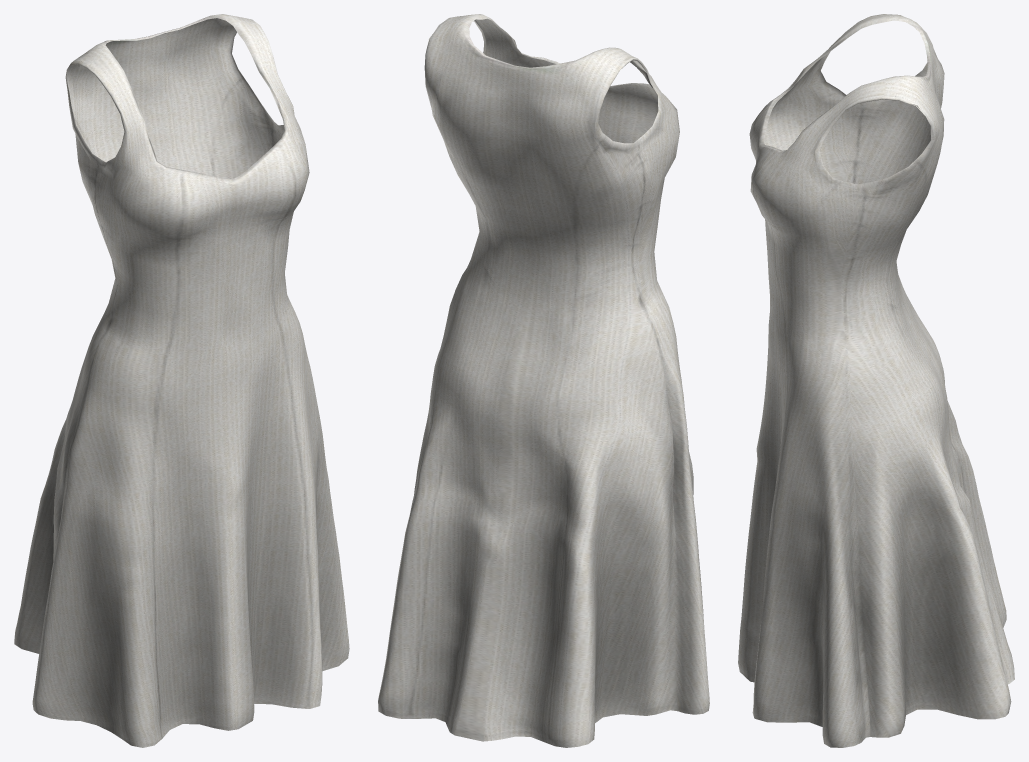
File: blackdress.obj
3 views of the same model, side by side, from view 1: azimuth 30°, elevation 25°; view 2: azimuth 150°, elevation 25°; view 3: azimuth 270°, elevation 25° (orthographic). The views are drawn at different scales.
Visible parts, largest first — view 1: Dress; view 2: Dress; view 3: Dress.
Part boxes in pixels (x1=…): Dress: x1=14, y1=14, x2=349, y2=747; Dress: x1=378, y1=14, x2=709, y2=747; Dress: x1=738, y1=14, x2=1014, y2=747.
Size of the model in its own units: 49.49 by 99.69 by 39.52.
